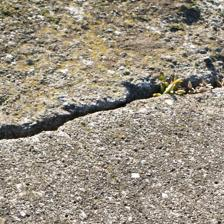Crack: (1, 36, 215, 108)
